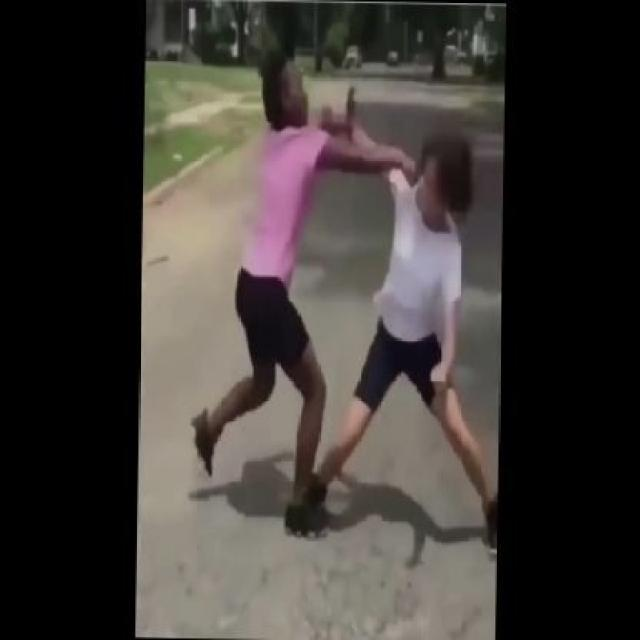fight: (183, 55, 497, 559)
